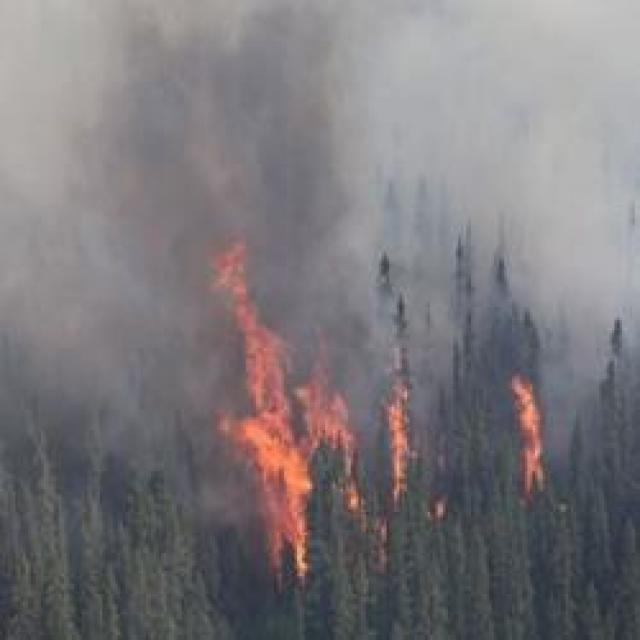fire: (243, 339, 319, 554), (510, 374, 552, 499)
smoke: (83, 0, 363, 320), (8, 327, 239, 470)
